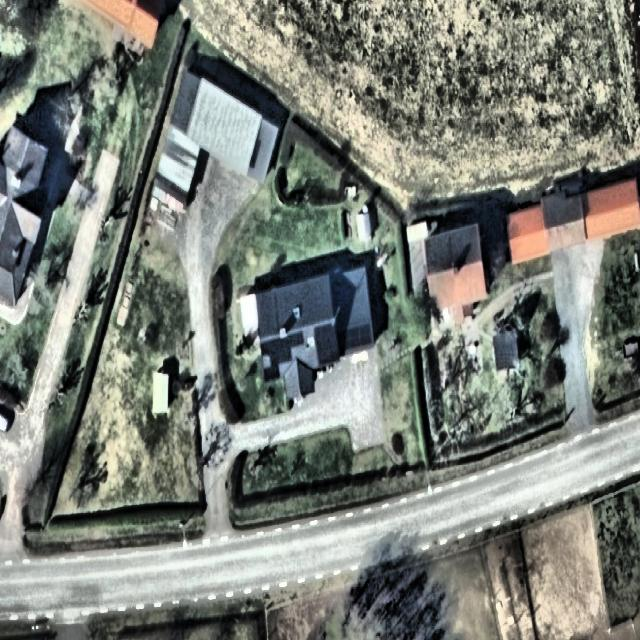roof_pv: (259, 331, 306, 364), (314, 324, 338, 368), (340, 325, 374, 348), (260, 365, 280, 383)
